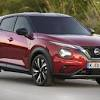Nissan: (1, 13, 100, 83)
